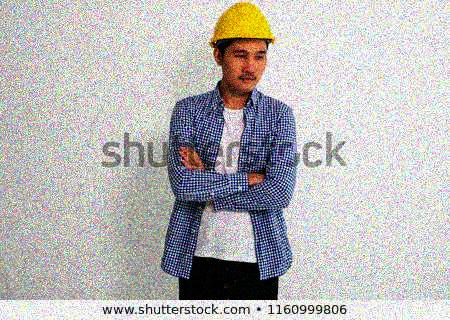helmet: (207, 1, 278, 93)
